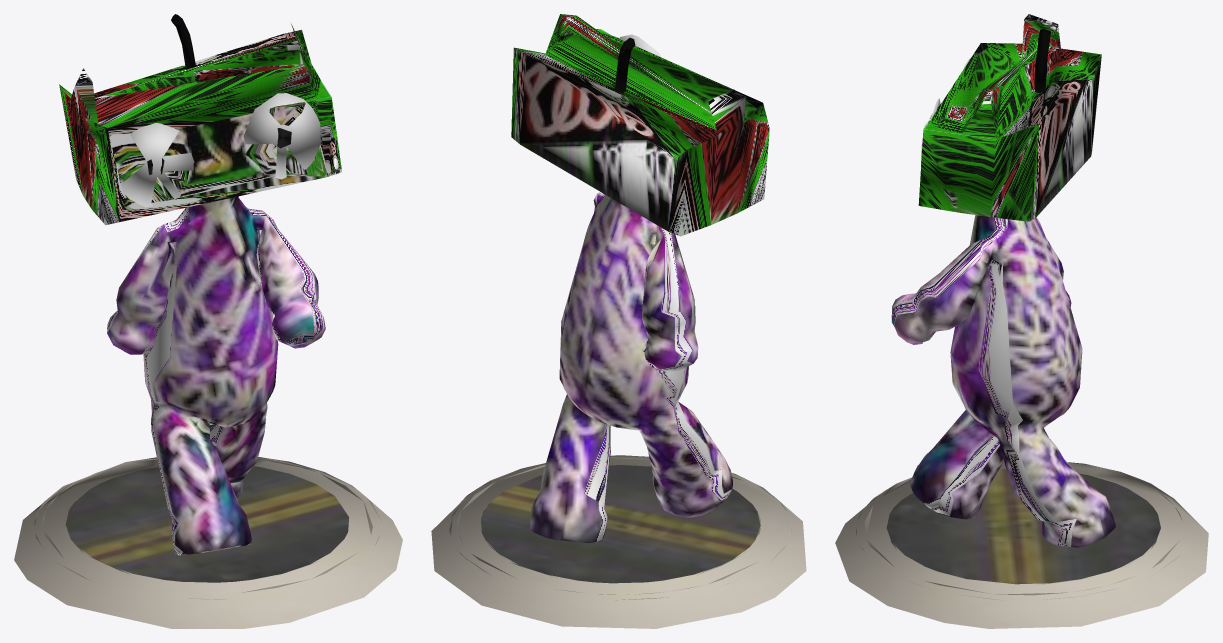
3 renders of one model, left to right at view 1: azimuth 30°, elevation 25°; view 2: azimuth 150°, elevation 25°; view 3: azimuth 270°, elevation 25°, orthographic. The views are drawn at different scales.
Bounding box in the file's own units: 1.43 × 2.16 × 1.43.
7 materials, 4 textured.
